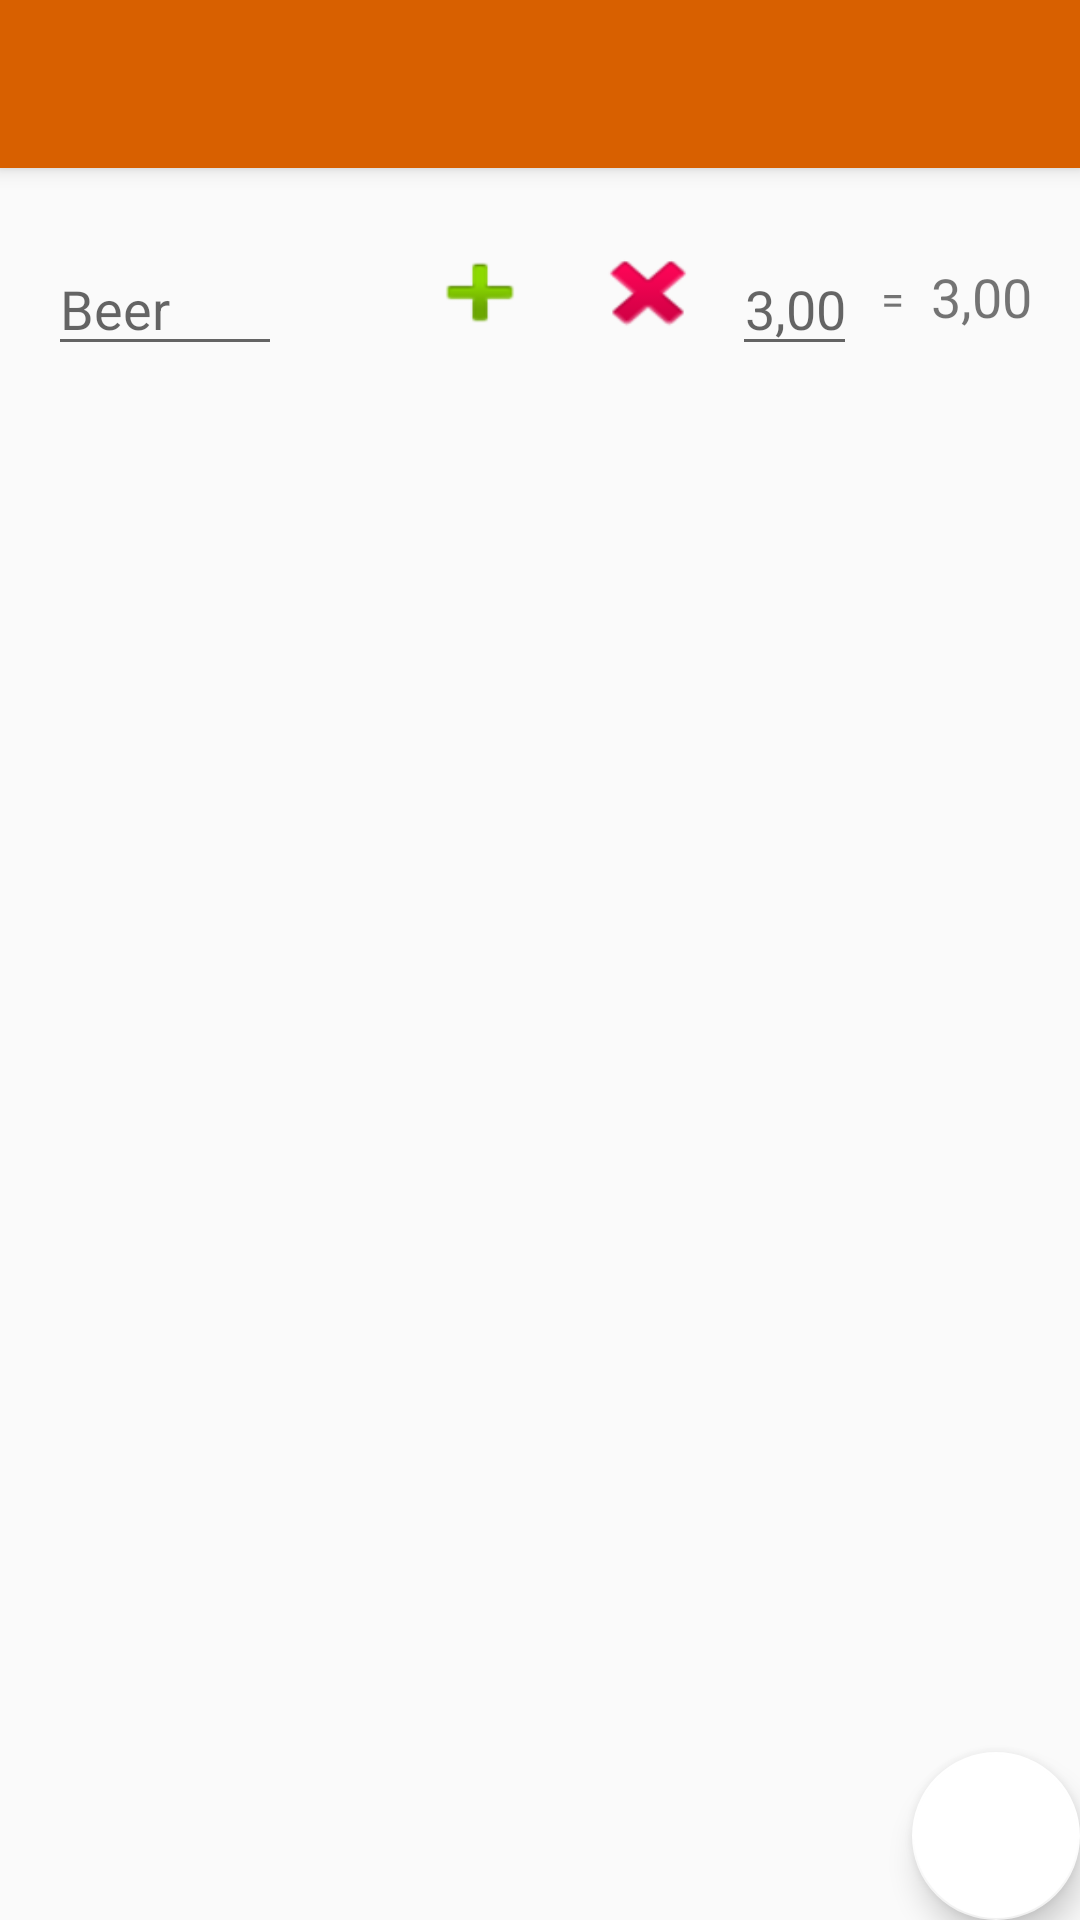

Point at icon controls on the screen. Image size 1080*1920, points as [x,y].
add: [480,292]
delete: [648,293]
